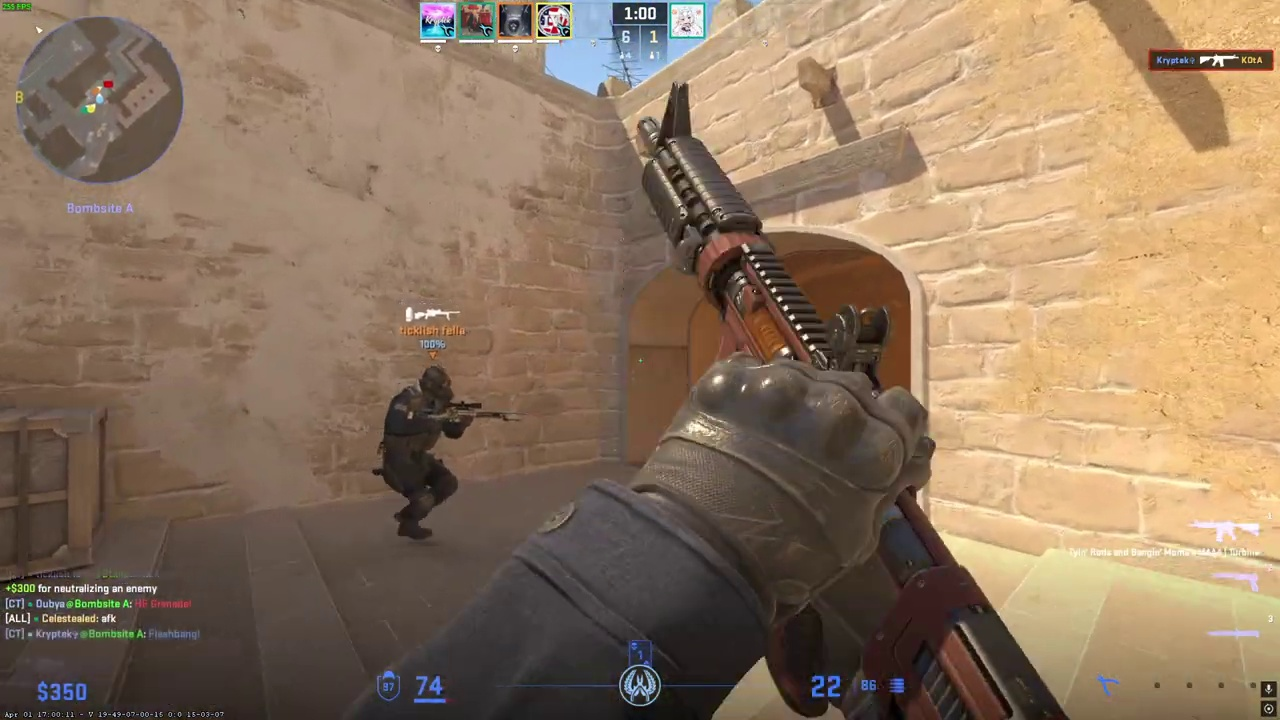CT: (379, 365, 467, 540)
